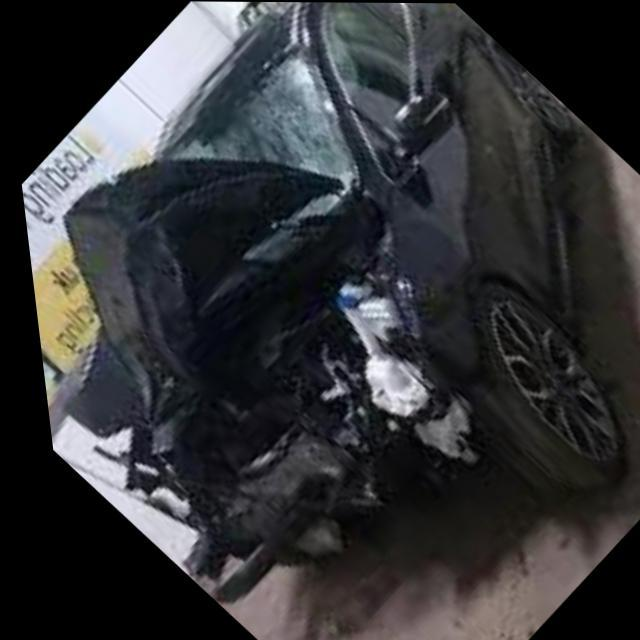no part: (56, 65, 467, 608)
